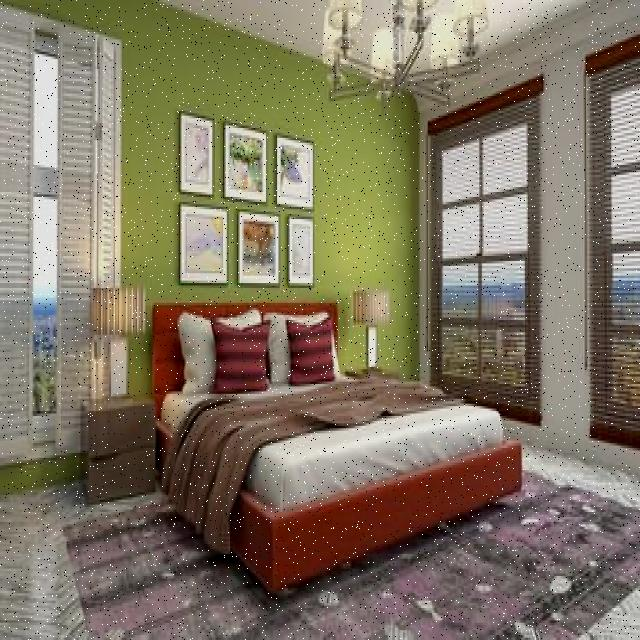bed: (147, 294, 526, 562)
